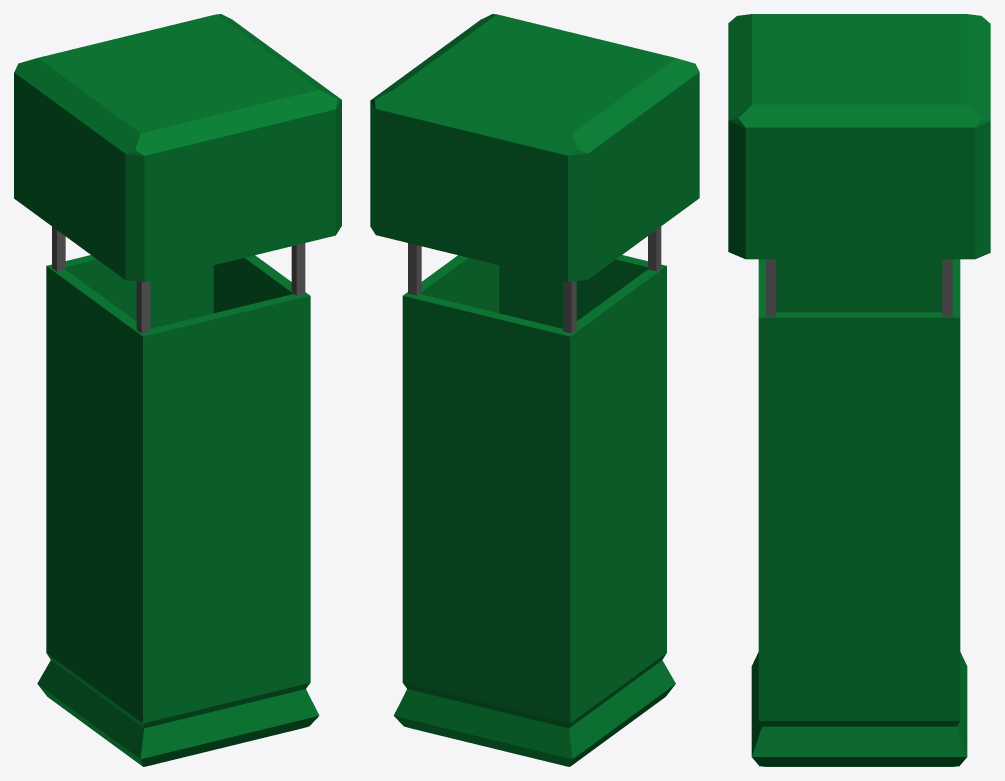
File: green_recycle_bin_3.glb
The picture shows the model from 3 angles, left to right: view 1: azimuth 30°, elevation 25°; view 2: azimuth 150°, elevation 25°; view 3: azimuth 270°, elevation 25°; orthographic projection. The views are drawn at different scales.
Parts seen in each view (by area): view 1: GREEN RECYCLE BIN.009_Material.058_0; view 2: GREEN RECYCLE BIN.009_Material.058_0; view 3: GREEN RECYCLE BIN.009_Material.058_0.
Boxes of the visible parts, box(x1,y1,x2,y2) form: GREEN RECYCLE BIN.009_Material.058_0: box(14, 14, 341, 766); GREEN RECYCLE BIN.009_Material.058_0: box(370, 14, 699, 766); GREEN RECYCLE BIN.009_Material.058_0: box(728, 14, 990, 766).
Size of the model in its own units: 0.0958 by 0.2694 by 0.0958.
Materials: 1 (1 with a texture image).
